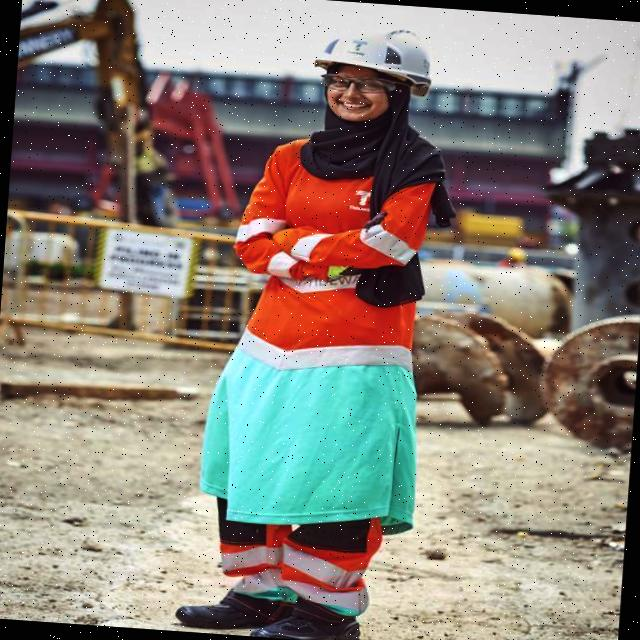vest: (228, 128, 442, 370)
